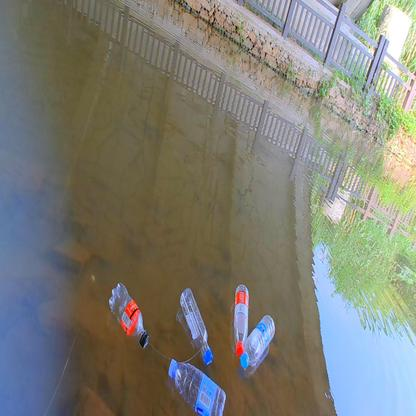plastic bottle: (168, 359, 225, 416), (107, 281, 150, 349), (178, 286, 214, 365), (241, 314, 275, 367), (233, 283, 247, 357)
